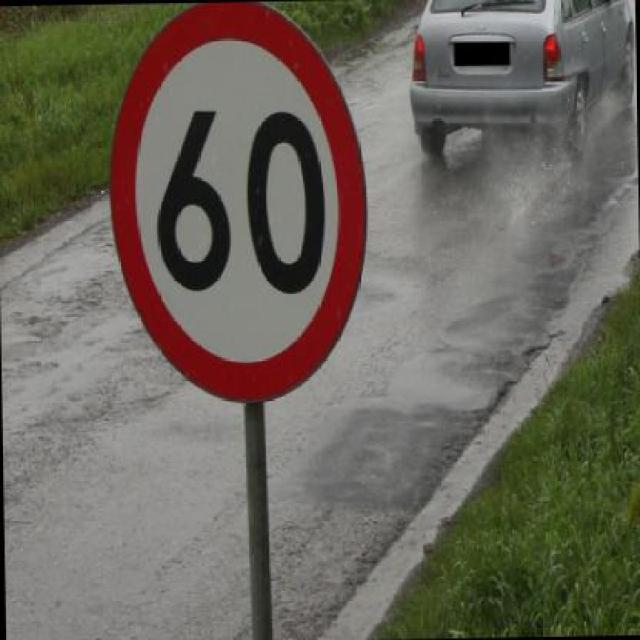Limite-60: (102, 0, 369, 397)
